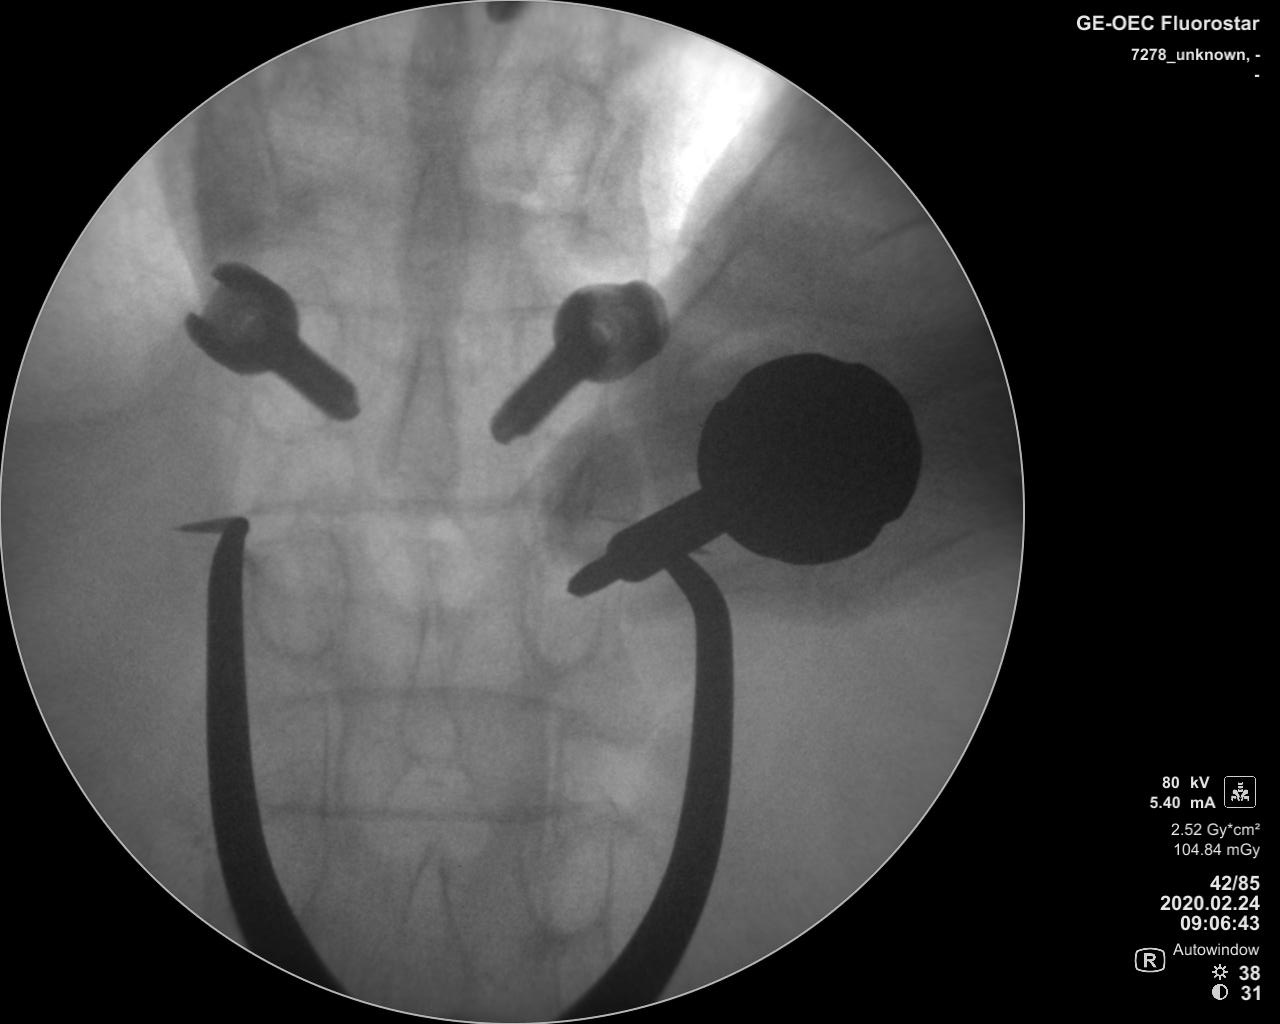eyes: (250, 286, 348, 442), (263, 68, 362, 197), (517, 814, 616, 941), (254, 530, 348, 658), (516, 64, 600, 208), (513, 306, 601, 442), (516, 544, 606, 675)
line: (249, 489, 581, 523), (258, 682, 575, 716), (262, 795, 539, 828), (298, 292, 552, 323)
nose: (392, 847, 472, 1013), (397, 594, 465, 773), (391, 332, 460, 501), (401, 152, 473, 300), (402, 6, 476, 145)
